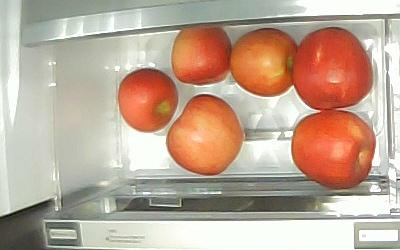apple: (293, 26, 372, 109), (291, 111, 376, 188), (165, 94, 244, 175), (229, 28, 297, 97), (117, 67, 178, 133), (171, 27, 232, 85)
